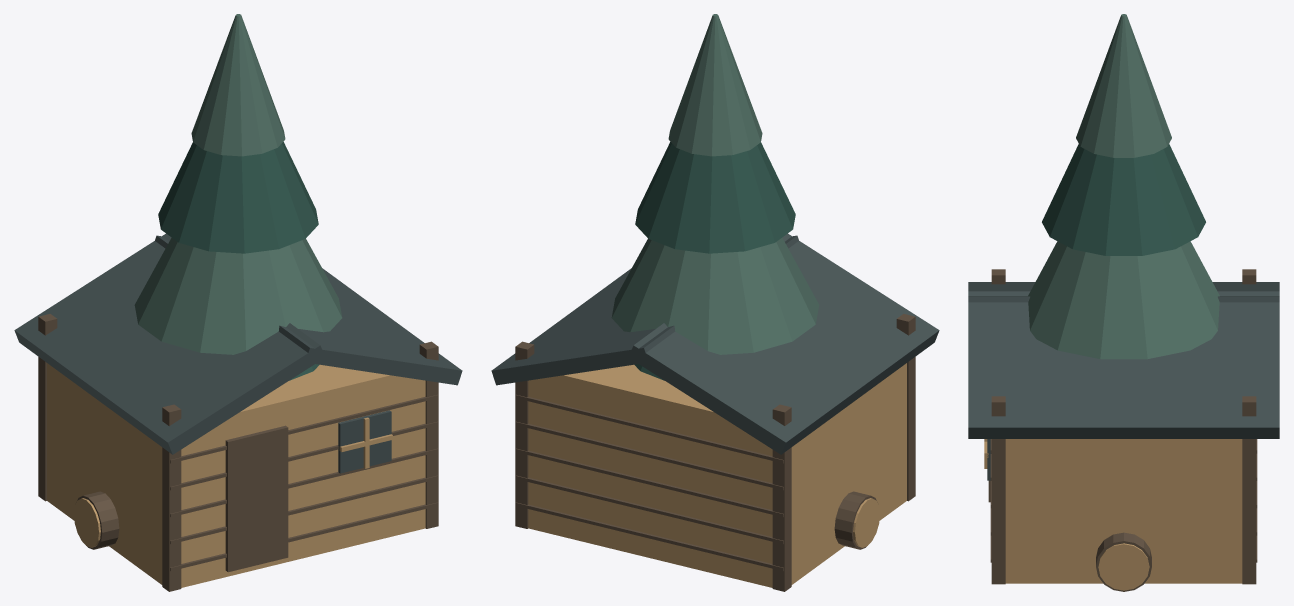
The model's file is kit.glb.
3 views of the same model, side by side, from view 1: azimuth 30°, elevation 25°; view 2: azimuth 150°, elevation 25°; view 3: azimuth 270°, elevation 25° (orthographic).
Visible parts, largest first — view 1: cabin, pine, fallen_log; view 2: cabin, pine, fallen_log; view 3: cabin, pine, fallen_log.
Boxes of the visible parts, x1=… form: cabin: x1=14, y1=233, x2=462, y2=591; pine: x1=134, y1=14, x2=342, y2=380; fallen_log: x1=74, y1=491, x2=119, y2=549; cabin: x1=491, y1=233, x2=939, y2=591; pine: x1=611, y1=14, x2=819, y2=380; fallen_log: x1=834, y1=491, x2=879, y2=549; cabin: x1=968, y1=269, x2=1279, y2=584; pine: x1=1028, y1=14, x2=1219, y2=359; fallen_log: x1=1096, y1=532, x2=1151, y2=591.
Bounding box in the file's own units: 3.55 × 5.71 × 3.1.
